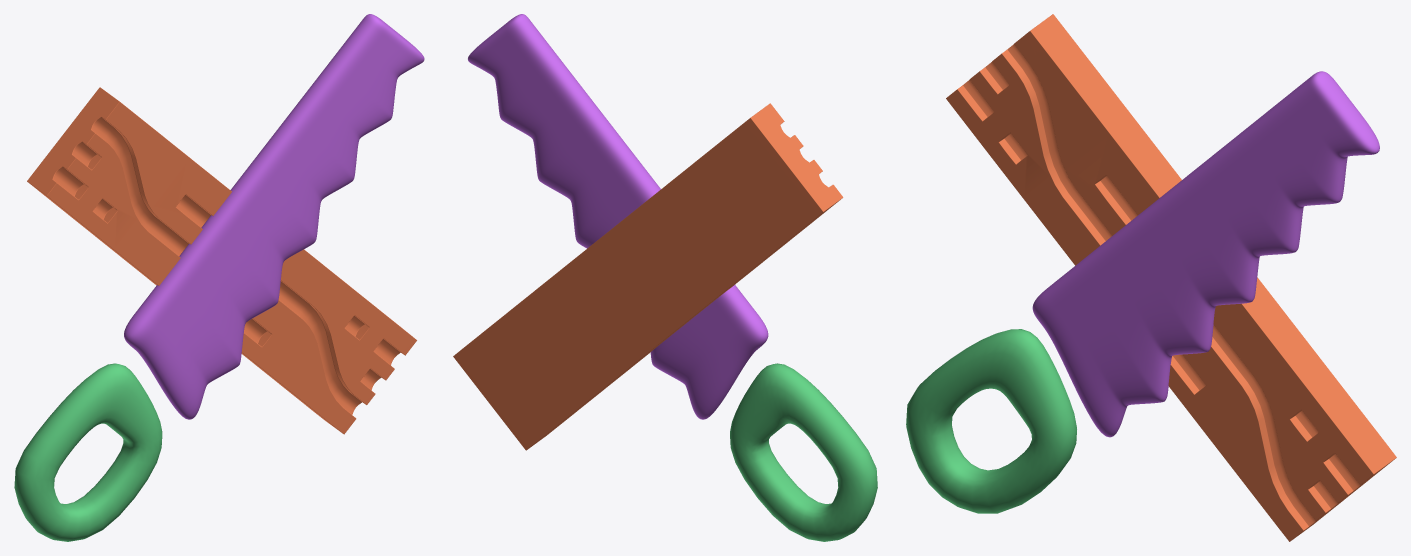
The model's file is 26. Woodworking Tools.glb.
3 renders of one model, left to right at view 1: azimuth 30°, elevation 25°; view 2: azimuth 150°, elevation 25°; view 3: azimuth 330°, elevation 25°, orthographic. The views are drawn at different scales.
Parts seen in each view (by area): view 1: Plane, Cube, Saw; view 2: Cube, Plane, Saw; view 3: Cube, Plane, Saw.
Boxes of the visible parts, left/top/right/bottom form: Plane: left=124, top=14, right=424, bottom=419; Cube: left=27, top=87, right=416, bottom=434; Saw: left=14, top=363, right=162, bottom=541; Cube: left=453, top=103, right=843, bottom=450; Plane: left=468, top=14, right=768, bottom=419; Saw: left=730, top=363, right=877, bottom=541; Cube: left=946, top=14, right=1396, bottom=541; Plane: left=1032, top=71, right=1379, bottom=437; Saw: left=906, top=329, right=1076, bottom=513.
Bounding box in the file's own units: 0.3708 × 0.3933 × 0.0474.
